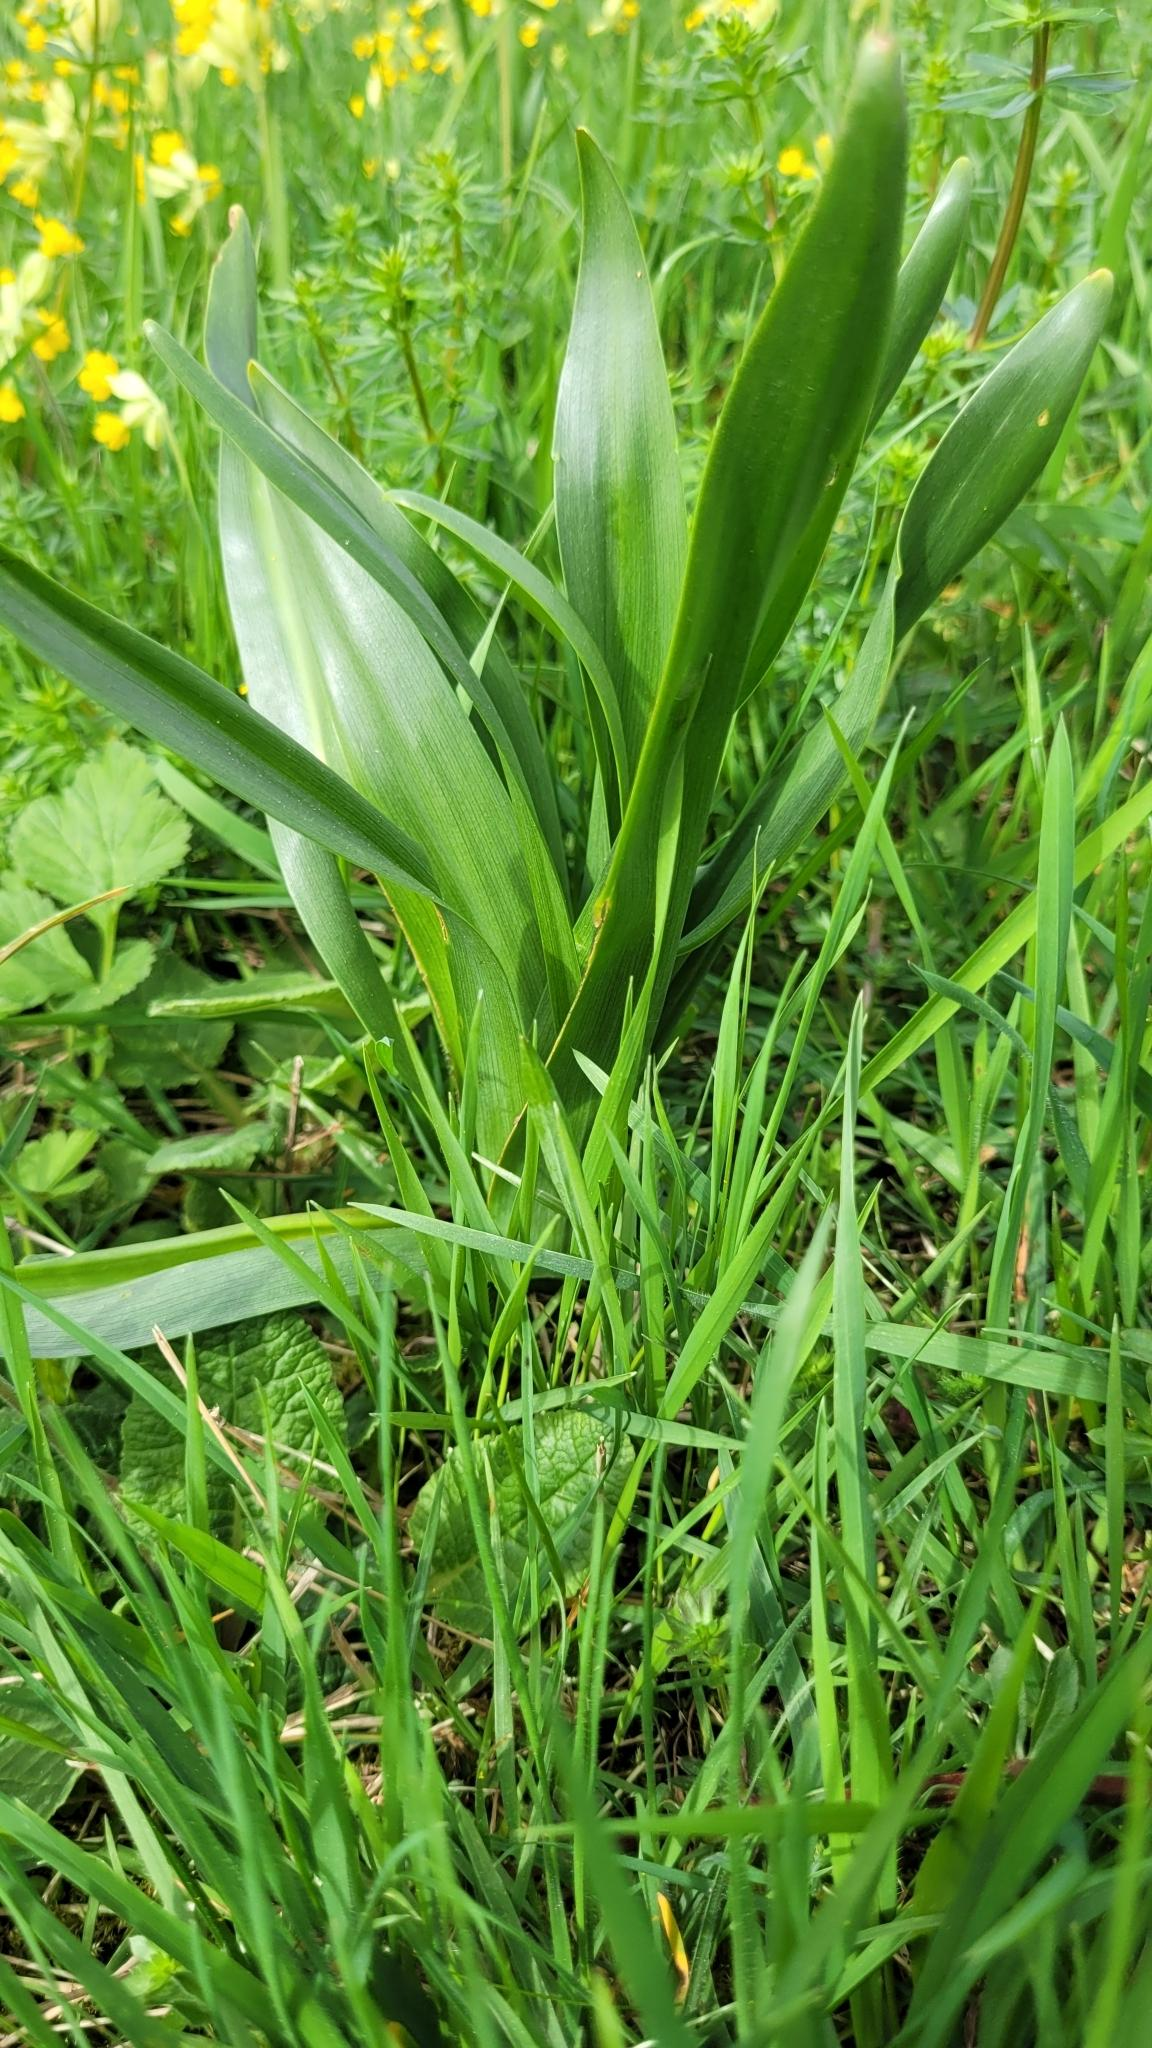Colchicum autumnale L: (38, 14, 1122, 1144)
